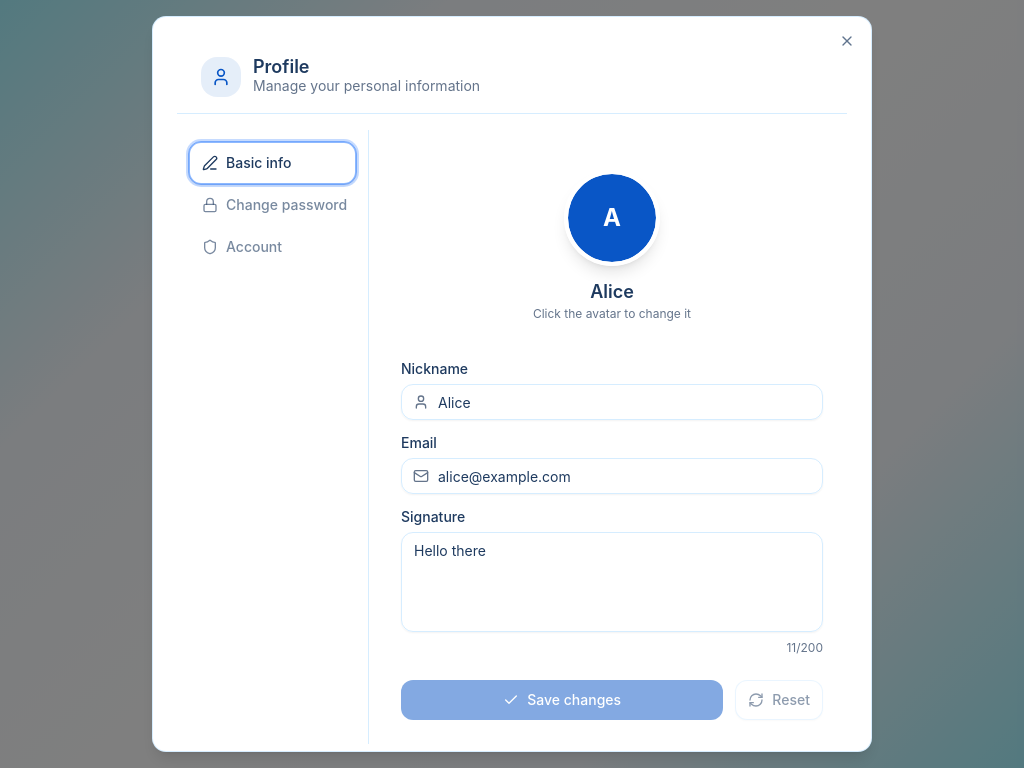
Test case: ProfileModal（en-US） › 三个页签都没有中文
Expected: the field showing "alice@example.com" below "Email" is shown, [401,458,823,494]
Expected: the text "Manage your personal information" is shown, [253,76,480,96]
# 修改密码页签（桌面侧栏与窄屏横排各有一套页签，happy-dom 里两套都在）
Step 1. Click the tab "Change password" → [272, 205], box [189,184,356,226]
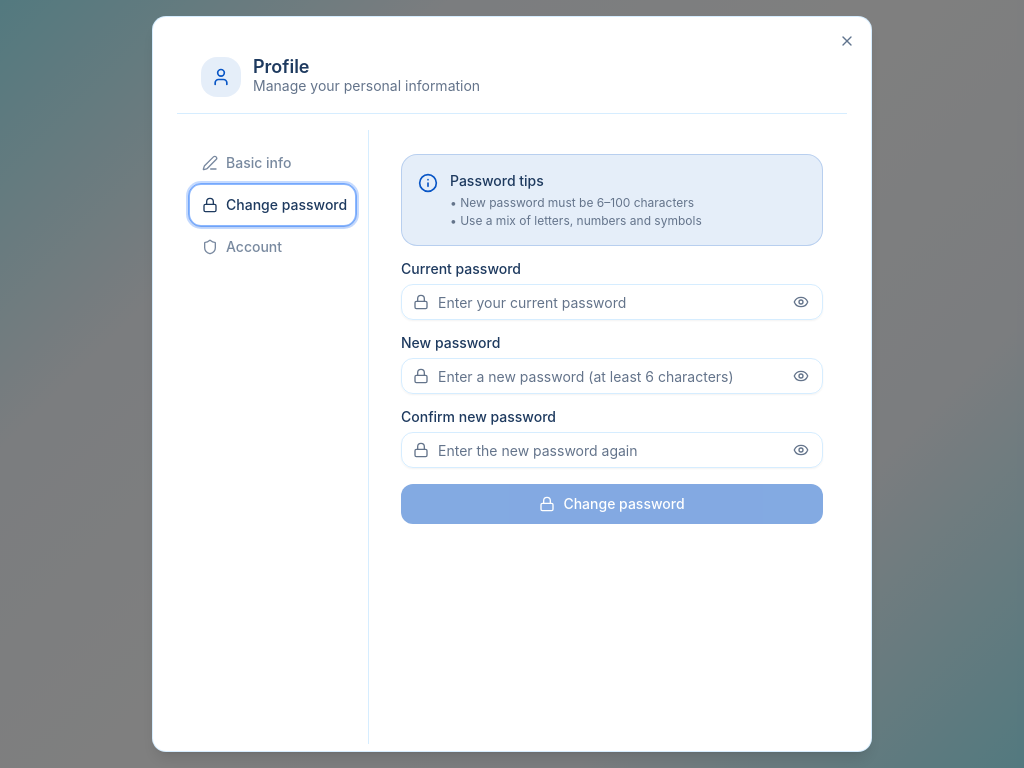
Result: the text "Password tips" is shown at [450,172,544,189]
Result: the list item "• New password must be 6–100 characters" is shown at [450,195,702,211]
Result: the password field with placeholder "Enter a new password (at least 6 characters)" is shown at [401,358,823,394]
Step 2. Click the tab "Account" → [272, 247], box [189,226,356,268]
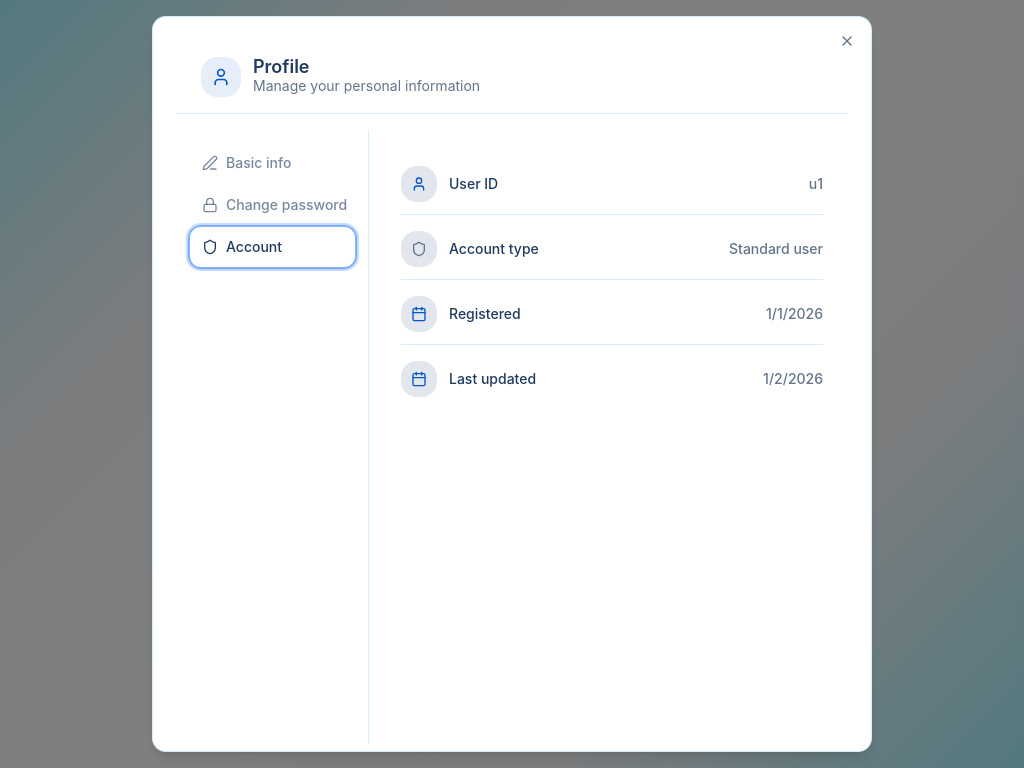
Result: the text "Standard user" is shown at [729,239,823,259]
Result: the text "Account type" is shown at [449,239,539,259]
